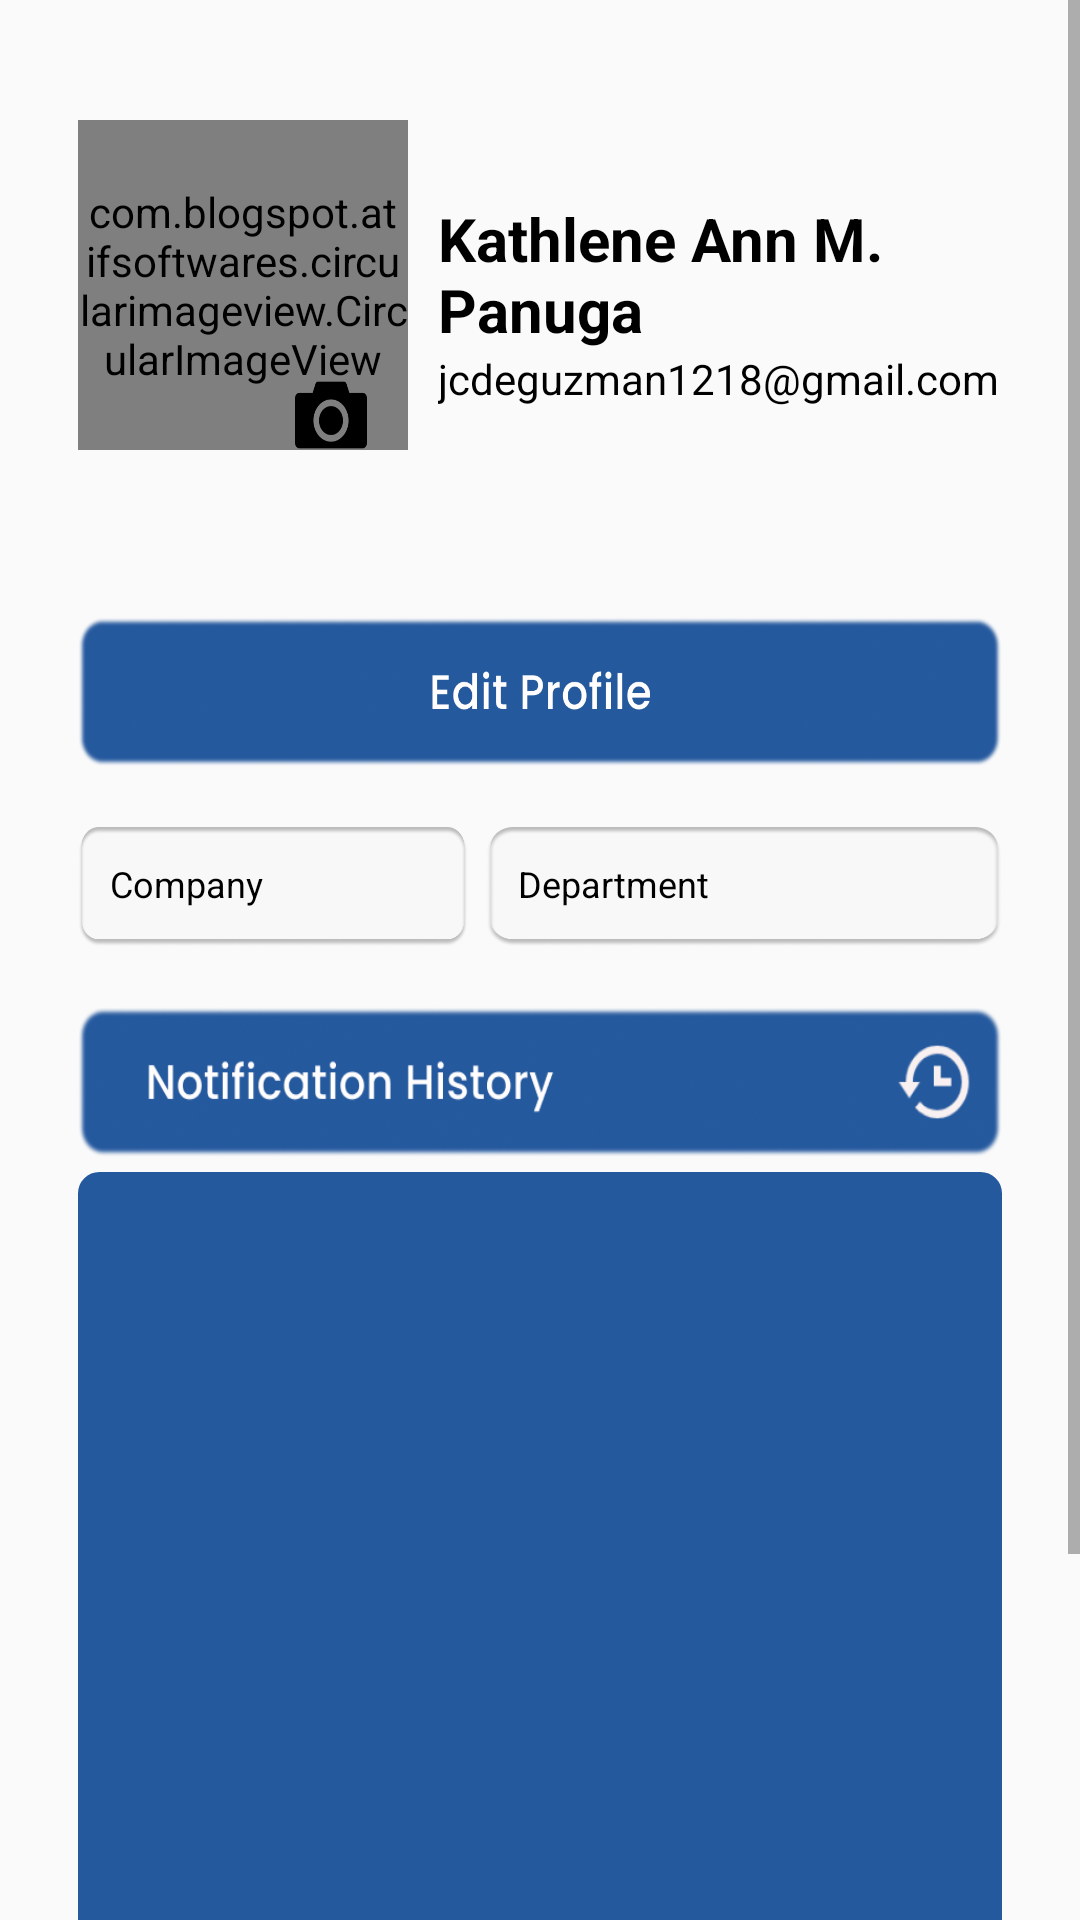

Named icons in this screenshot (1080px×1920px) and their centers, (x,y):
changeprofpic: (331,415)
